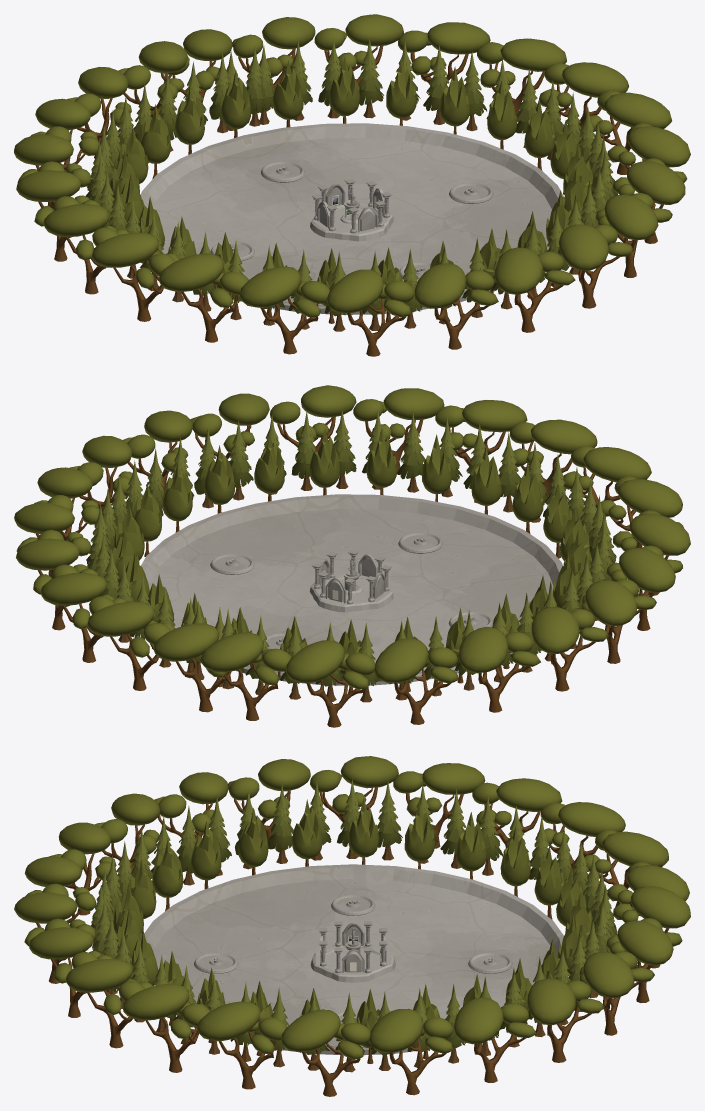
Rendered from LobbyPrincipalActualizado.fbx.
The picture shows the model from 3 angles, top to bottom: view 1: azimuth 30°, elevation 25°; view 2: azimuth 150°, elevation 25°; view 3: azimuth 270°, elevation 25°; orthographic projection.
Parts seen in each view (by area): view 1: Tree1, Fuente Grande, Tree2, Tree3, Cylinder.007, Cylinder.008, Cuadro1.002, Columna.001, Columna.002; view 2: Tree1, Fuente Grande, Tree2, Tree3, Cylinder.007, Cylinder.008, Cuadro1.002, Columna.001; view 3: Tree1, Fuente Grande, Tree2, Tree3, Cylinder.008, Cylinder.007, Cuadro1.001, Columna.001.
Part boxes in pixels (bbox=[...]): Tree1: bbox=[14, 14, 690, 356]; Fuente Grande: bbox=[140, 123, 564, 314]; Tree2: bbox=[85, 38, 617, 331]; Tree3: bbox=[110, 56, 593, 323]; Cylinder.007: bbox=[210, 182, 493, 261]; Cylinder.008: bbox=[261, 161, 430, 281]; Cuadro1.002: bbox=[325, 183, 377, 232]; Columna.001: bbox=[312, 181, 391, 231]; Columna.002: bbox=[318, 178, 385, 233]; Tree1: bbox=[14, 385, 690, 727]; Fuente Grande: bbox=[141, 494, 562, 685]; Tree2: bbox=[86, 409, 616, 702]; Tree3: bbox=[112, 428, 591, 693]; Cylinder.007: bbox=[210, 553, 493, 630]; Cylinder.008: bbox=[265, 532, 442, 649]; Cuadro1.002: bbox=[325, 554, 378, 603]; Columna.001: bbox=[312, 552, 391, 602]; Tree1: bbox=[14, 756, 690, 1096]; Fuente Grande: bbox=[144, 864, 563, 1055]; Tree2: bbox=[91, 779, 617, 1072]; Tree3: bbox=[113, 798, 594, 1063]; Cylinder.008: bbox=[194, 952, 512, 973]; Cylinder.007: bbox=[331, 894, 375, 1023]; Cuadro1.001: bbox=[342, 922, 364, 972]; Columna.001: bbox=[334, 921, 372, 973].
Size of the model in its own units: 564 by 77.83 by 567.
Materials: 16 (6 with a texture image).
